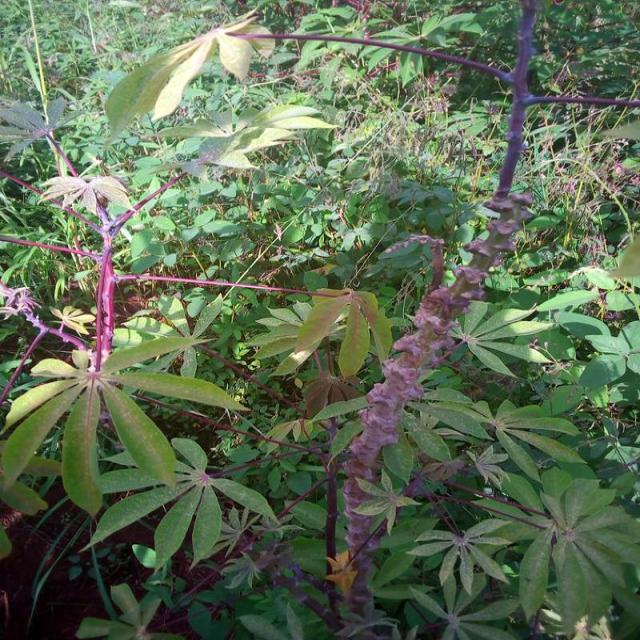cassava leaf: (102, 10, 274, 148)
